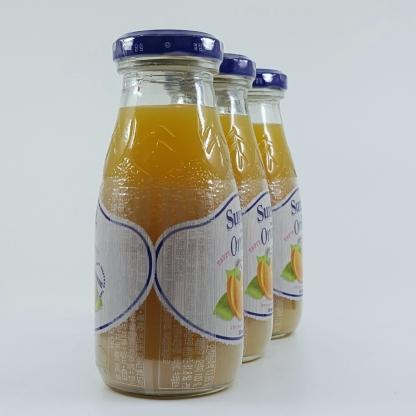----------180ML: (94, 29, 244, 398)
